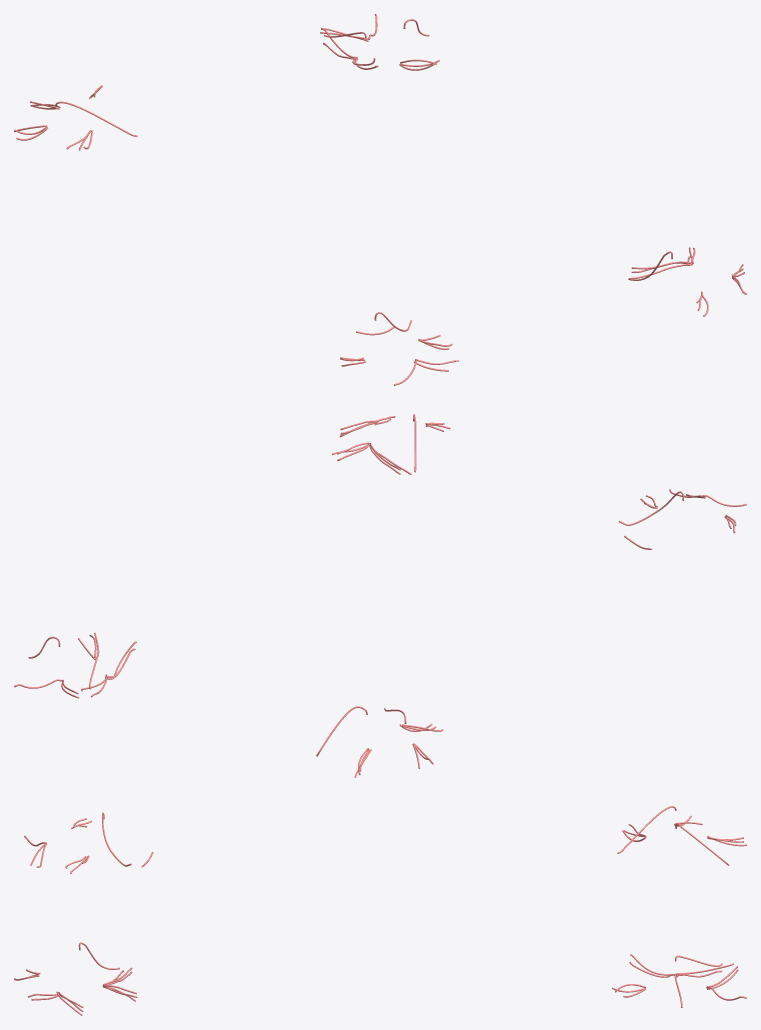
3 renders of one model, top to bottom at view 1: azimuth 30°, elevation 25°; view 2: azimuth 150°, elevation 25°; view 3: azimuth 270°, elevation 25°, orthographic. The views are drawn at different scales.
Visible parts, largest first — view 1: SA_Line_02; view 2: SA_Line_02; view 3: SA_Line_02.
Boxes of the visible parts, box(x1,y1,x2,y2) form: SA_Line_02: box(14, 14, 746, 385); SA_Line_02: box(14, 414, 746, 777); SA_Line_02: box(14, 806, 746, 1015).
Size of the model in its own units: 1659 by 173 by 2680.
